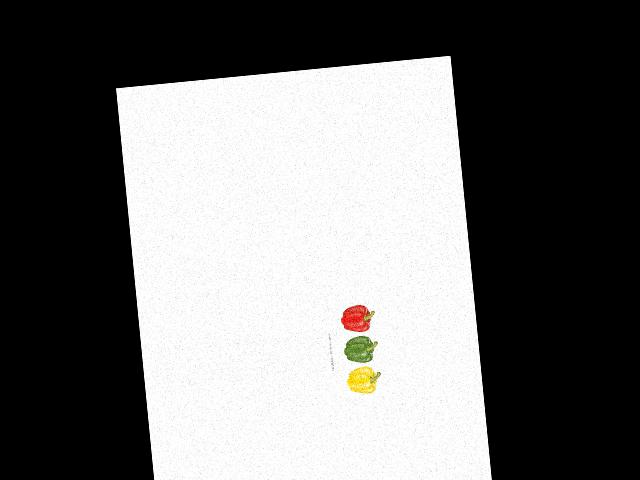bell_pepper: (342, 363, 382, 397)
